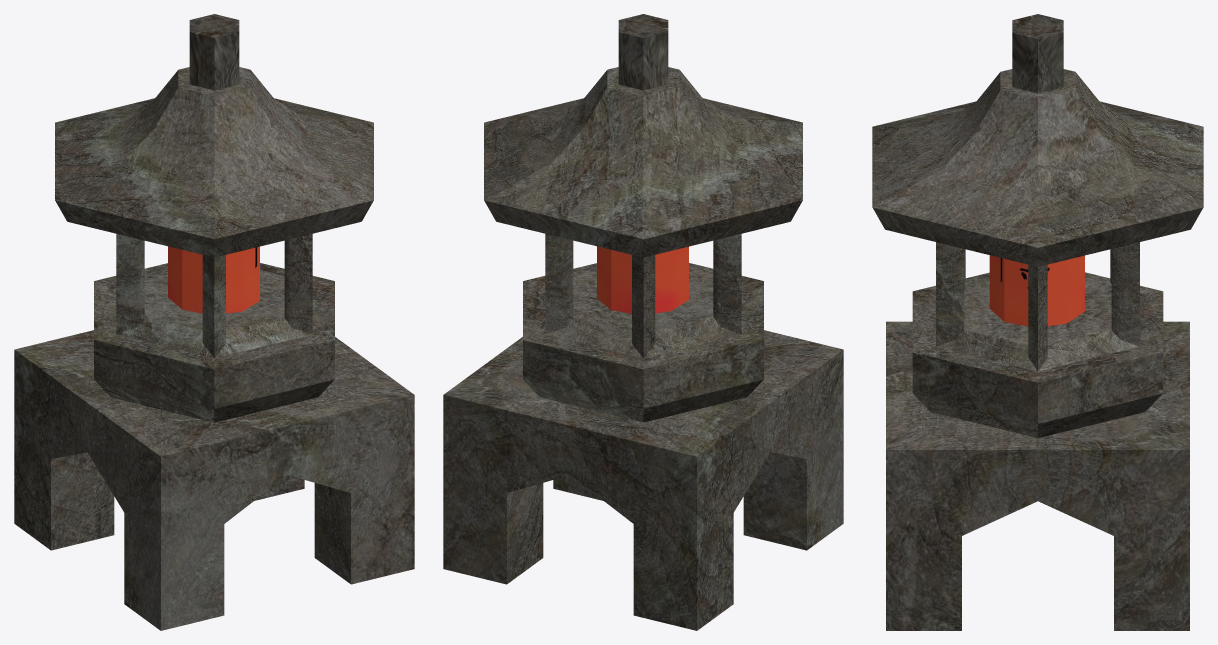
The model's file is lampra_jardin_def.fbx.
3 renders of one model, left to right at view 1: azimuth 30°, elevation 25°; view 2: azimuth 150°, elevation 25°; view 3: azimuth 270°, elevation 25°, orthographic. The views are drawn at different scales.
Parts seen in each view (by area): view 1: lampara, luz_baja; view 2: lampara, luz_baja; view 3: lampara, luz_baja.
Part boxes in pixels (x1,y1,x2,y2): lampara: [14, 14, 414, 630]; luz_baja: [168, 246, 259, 313]; lampara: [443, 14, 843, 630]; luz_baja: [597, 246, 688, 313]; lampara: [872, 14, 1203, 630]; luz_baja: [989, 255, 1084, 326].
Bounding box in the file's own units: 11.88 × 18.52 × 10.29.
